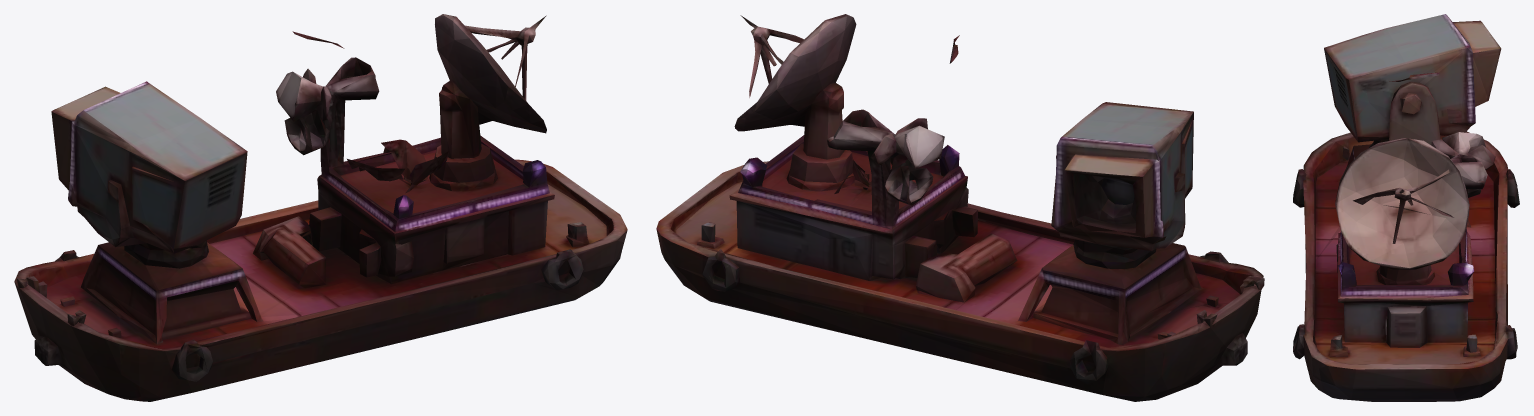
File: barge.glb
The picture shows the model from 3 angles, left to right: view 1: azimuth 30°, elevation 25°; view 2: azimuth 150°, elevation 25°; view 3: azimuth 270°, elevation 25°; orthographic projection. The views are drawn at different scales.
Visible parts, largest first — view 1: geometry_0; view 2: geometry_0; view 3: geometry_0.
Boxes of the visible parts, box(x1,y1,x2,y2) form: geometry_0: box(14, 14, 627, 401); geometry_0: box(656, 14, 1264, 401); geometry_0: box(1293, 14, 1519, 401).
Size of the model in its own units: 0.9981 by 0.4892 by 0.4215.
1 material, 1 textured.
